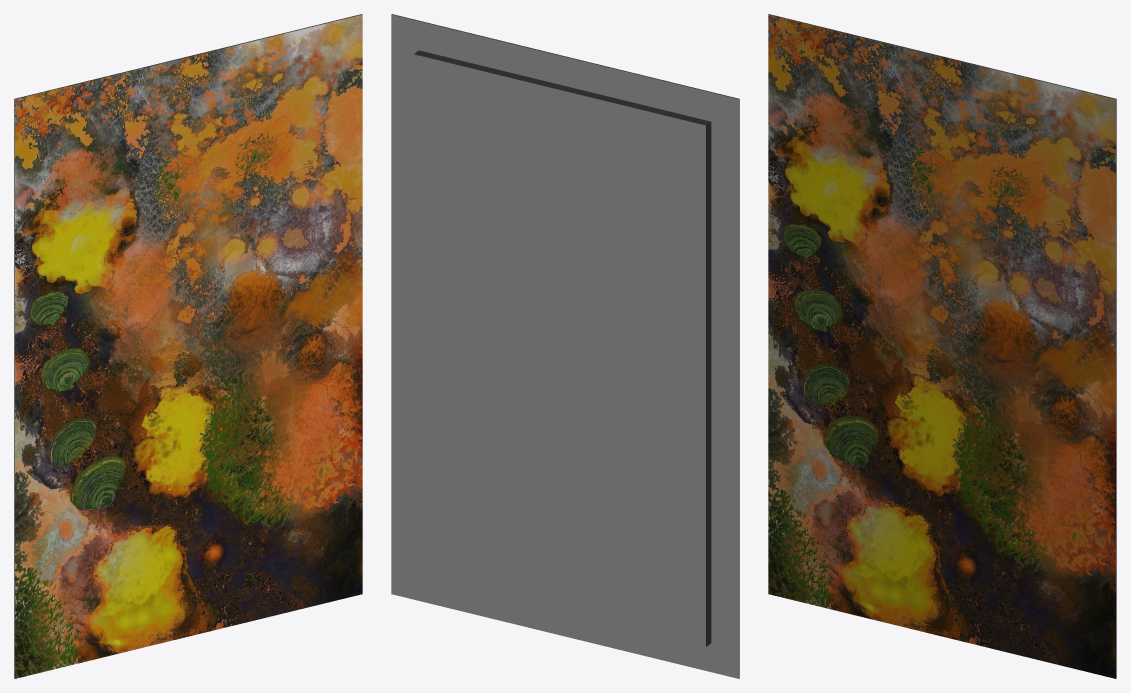
Rendered from os019_grand_dibond.glb.
3 renders of one model, left to right at view 1: azimuth 30°, elevation 25°; view 2: azimuth 150°, elevation 25°; view 3: azimuth 330°, elevation 25°, orthographic.
Visible parts, largest first — view 1: os019_grand_dibond; view 2: os019_grand_dibond; view 3: os019_grand_dibond.
Boxes of the visible parts, box(x1,y1,x2,y2) form: os019_grand_dibond: box(14, 14, 362, 678); os019_grand_dibond: box(391, 14, 739, 678); os019_grand_dibond: box(768, 14, 1116, 678).
Bounding box in the file's own units: 0.7537 × 1.2 × 0.023.
Materials: 4 (1 with a texture image).
